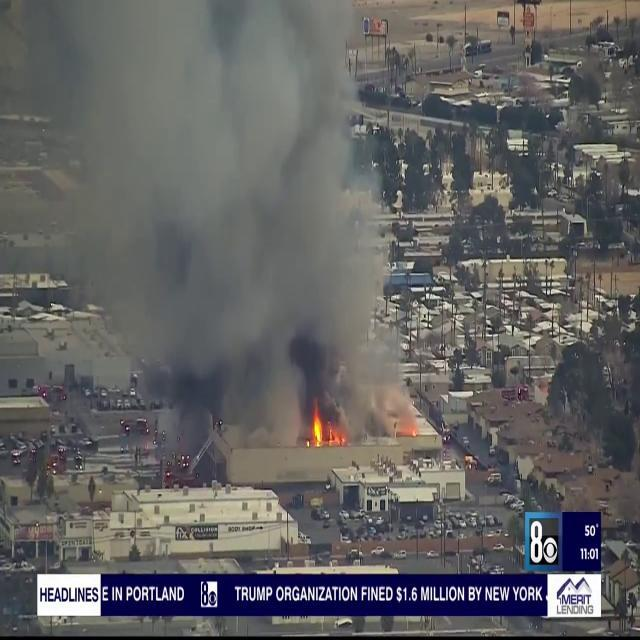Fire: (308, 404, 345, 449)
Smoke: (52, 0, 422, 444)
